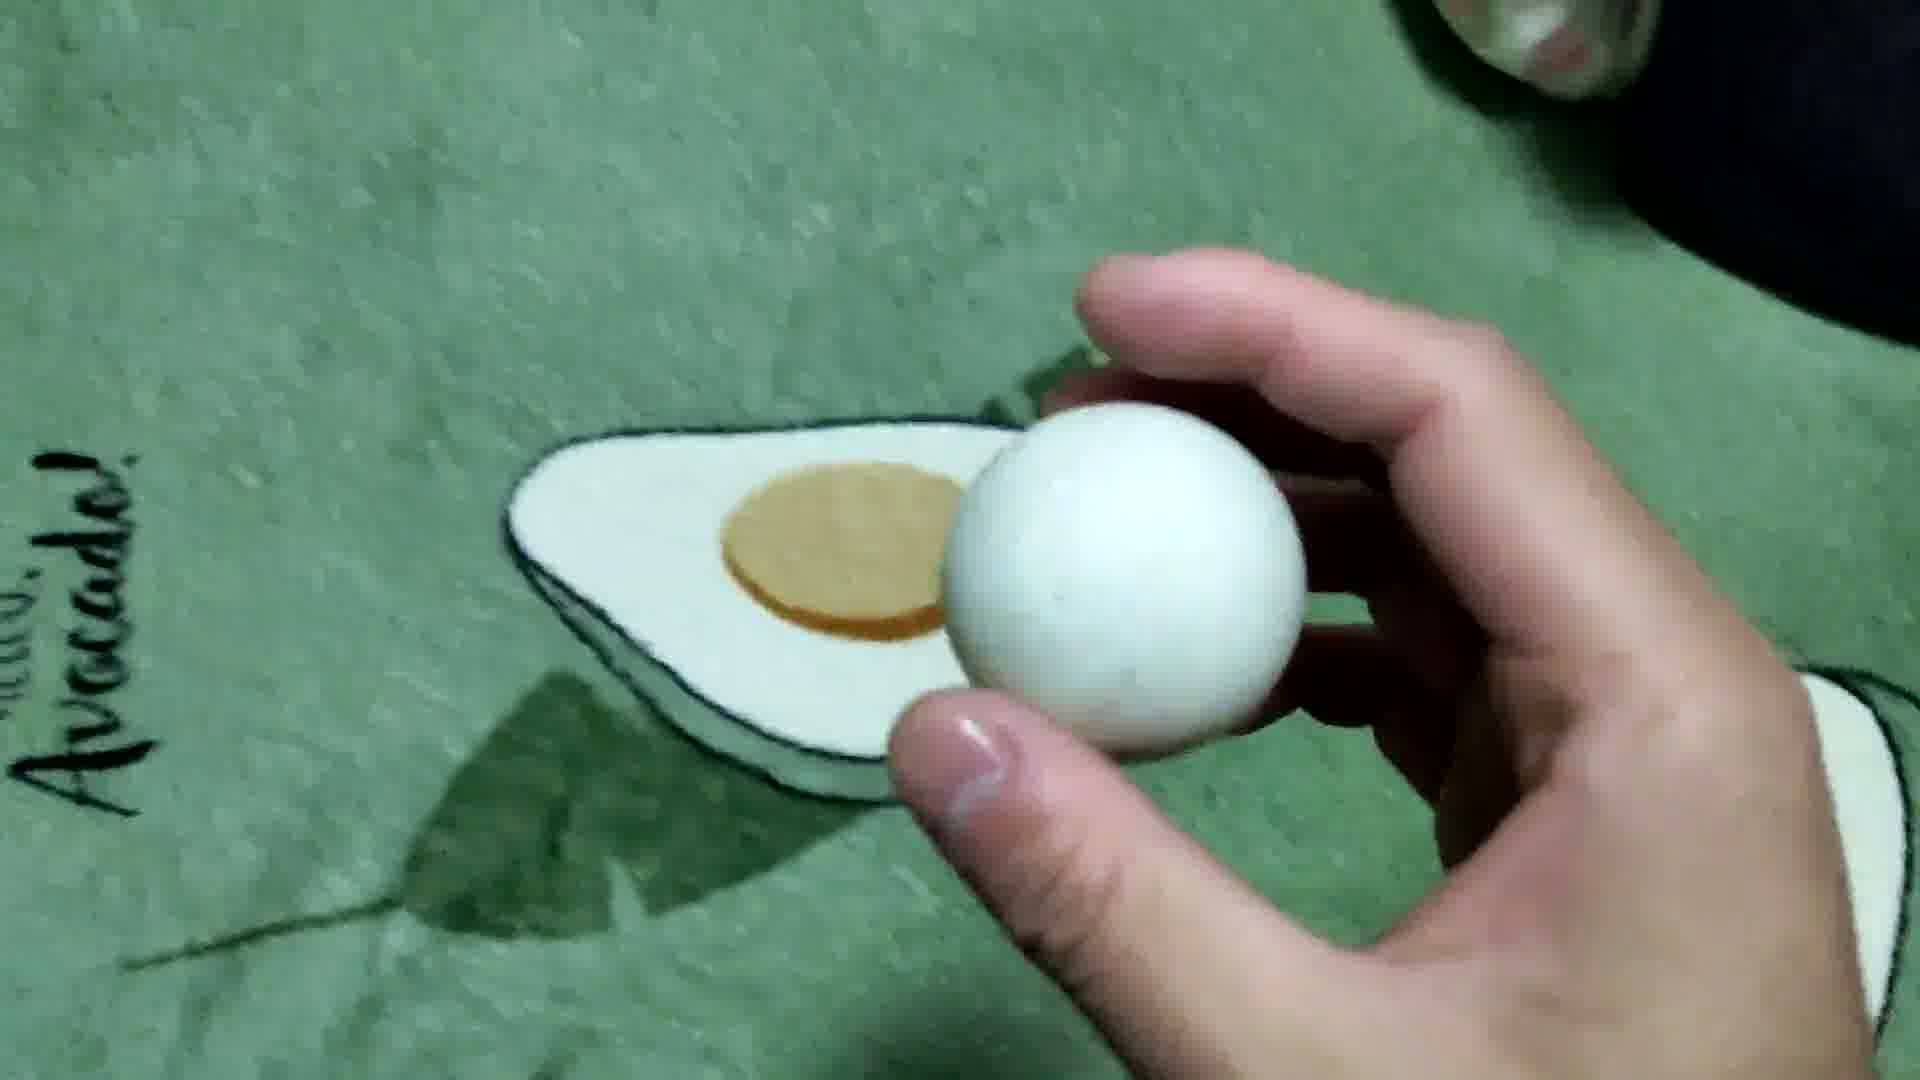Ball: (945, 404, 1305, 756)
